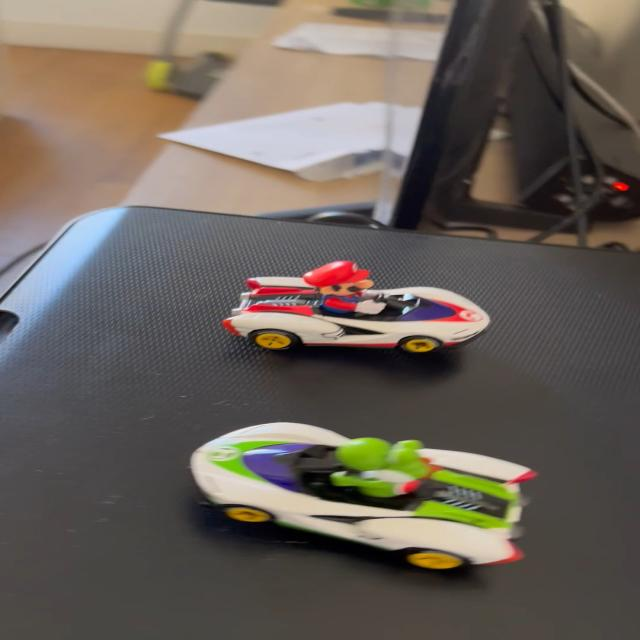mario: (211, 264, 500, 364)
yoshi: (160, 413, 566, 575)
